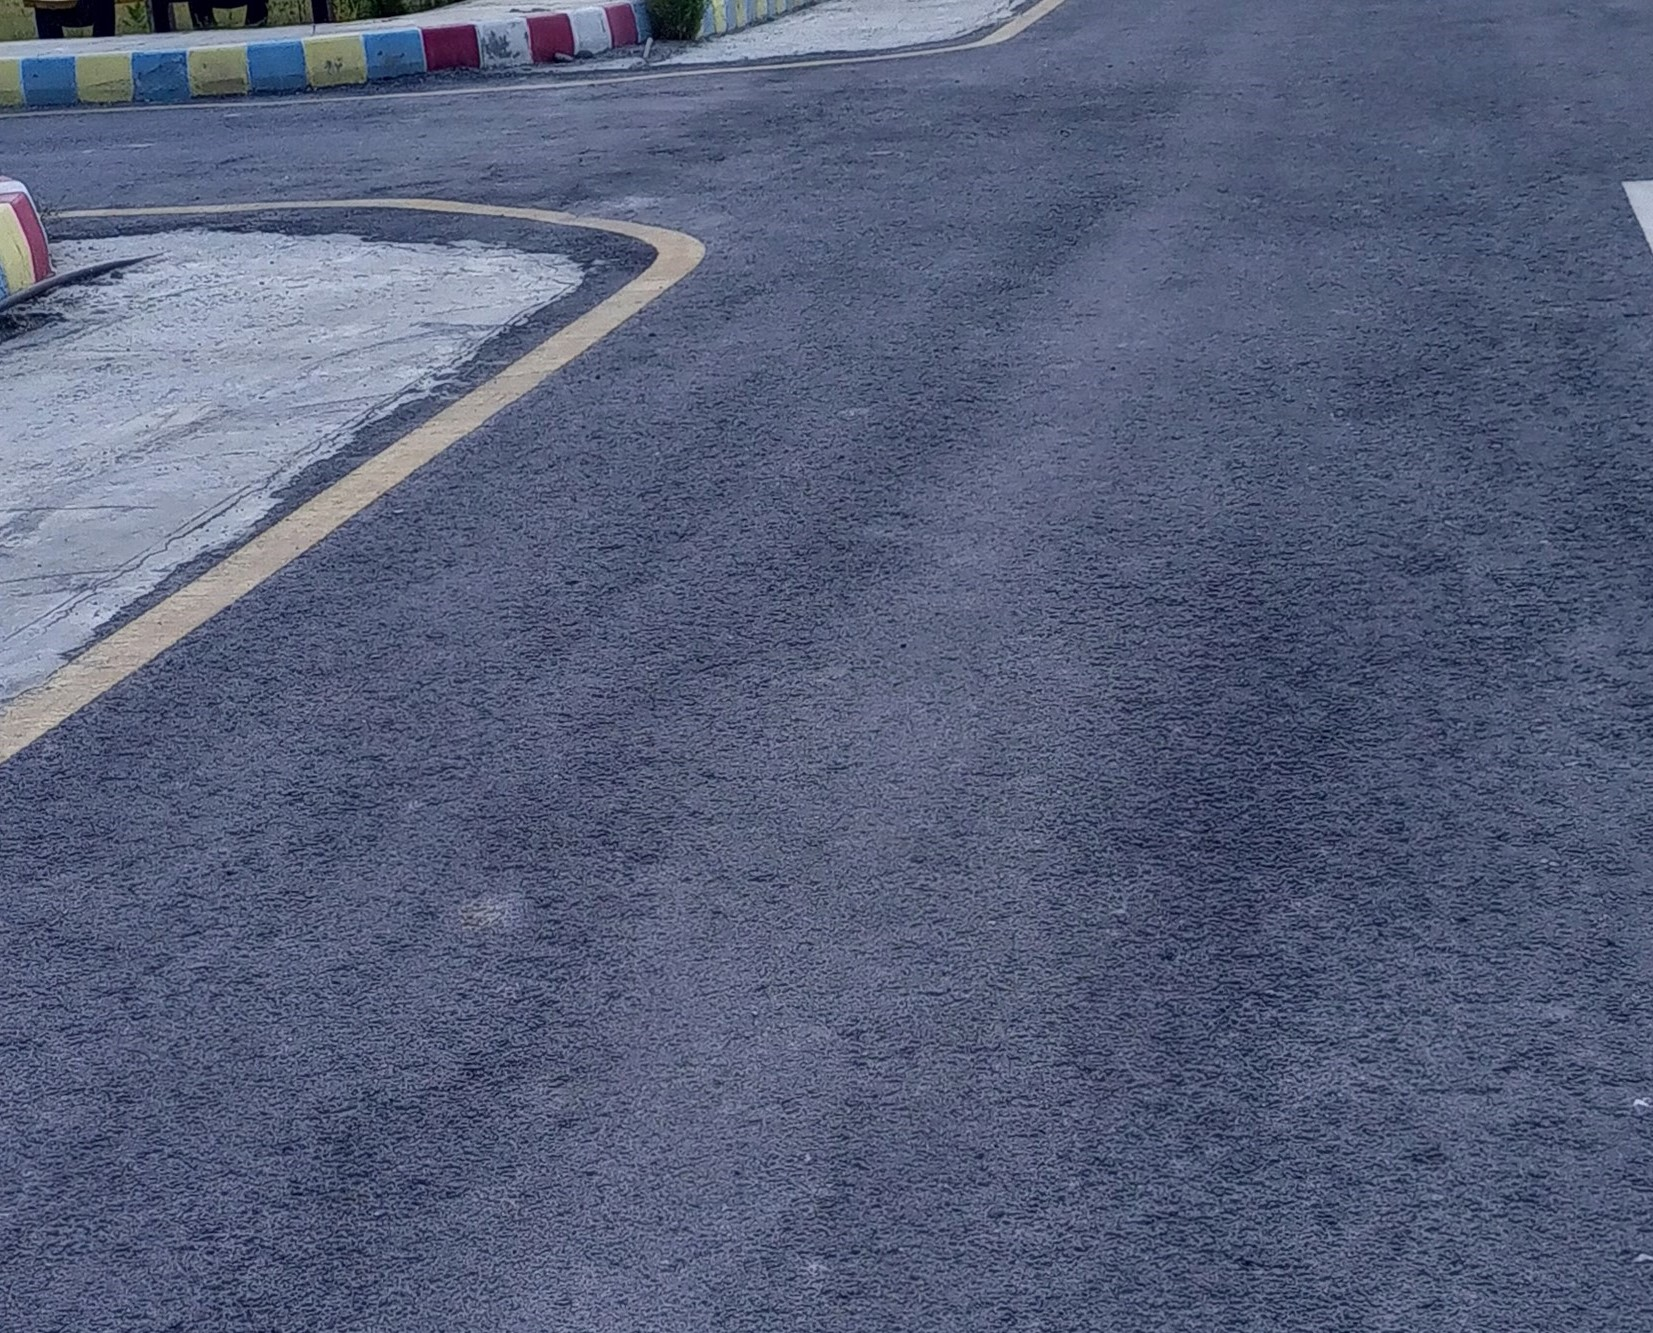leftTrun: (234, 49, 1356, 681)
